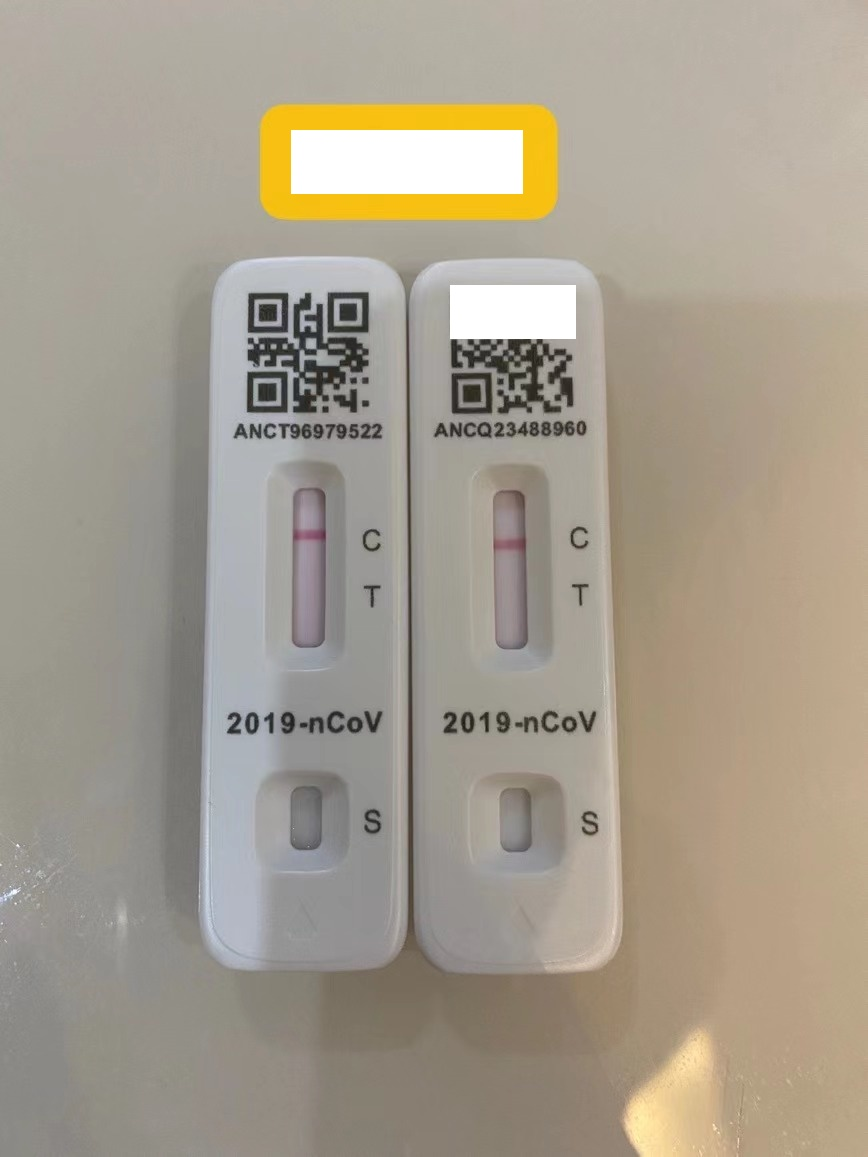negative: (267, 456, 344, 680), (473, 463, 551, 678)
